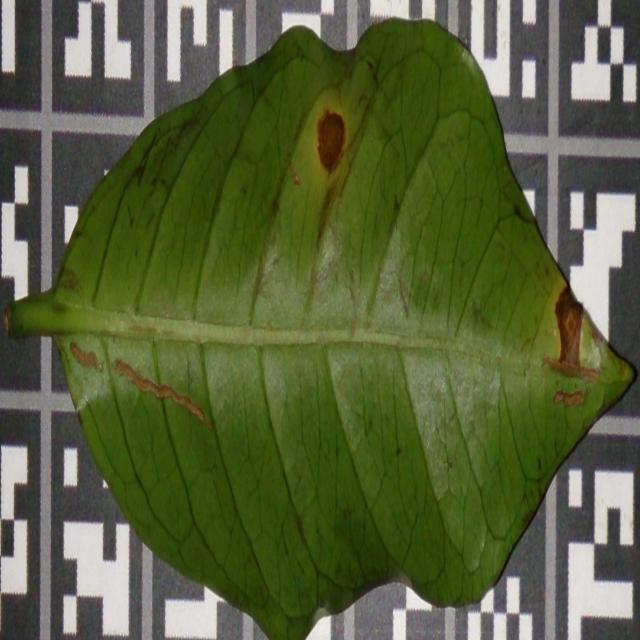Enfermedad-Mancha-de-hierro: (32, 19, 635, 640)
